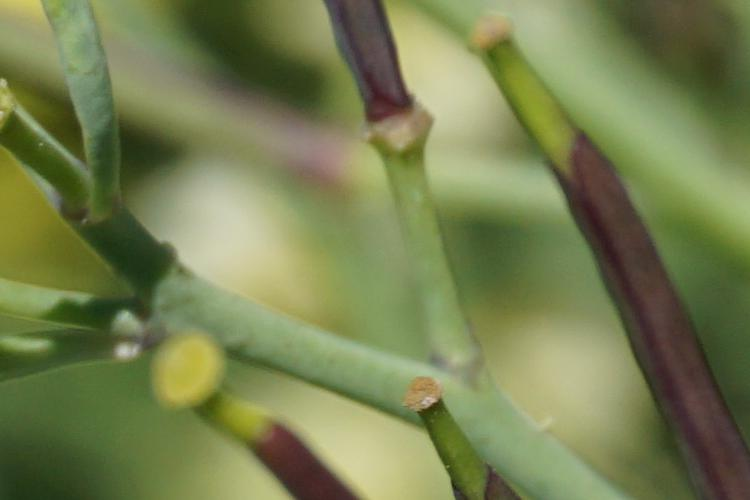pod: (466, 18, 745, 487), (159, 338, 357, 495), (325, 3, 444, 203), (407, 385, 531, 496)
